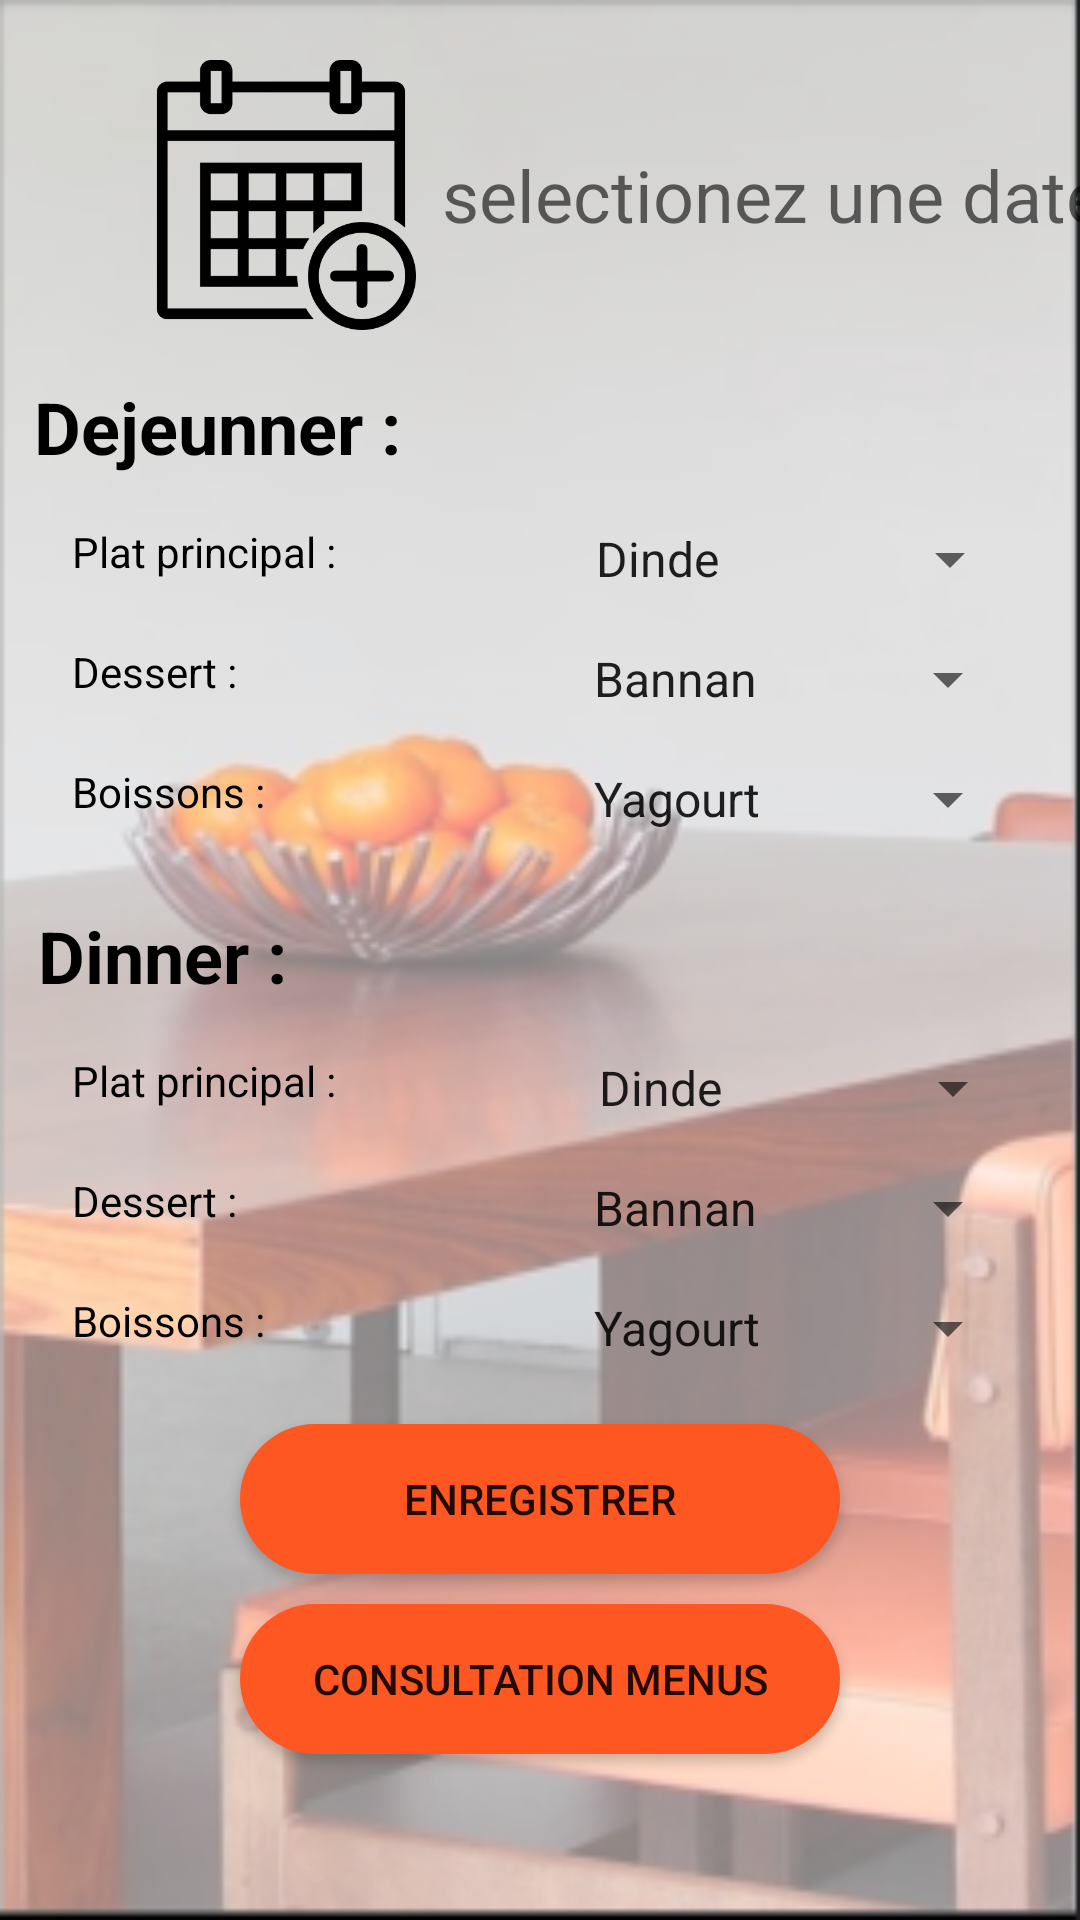

Where to tap for icons on this 1080×1920 app screen, as (x,y):
calendarplus: (286,195)
